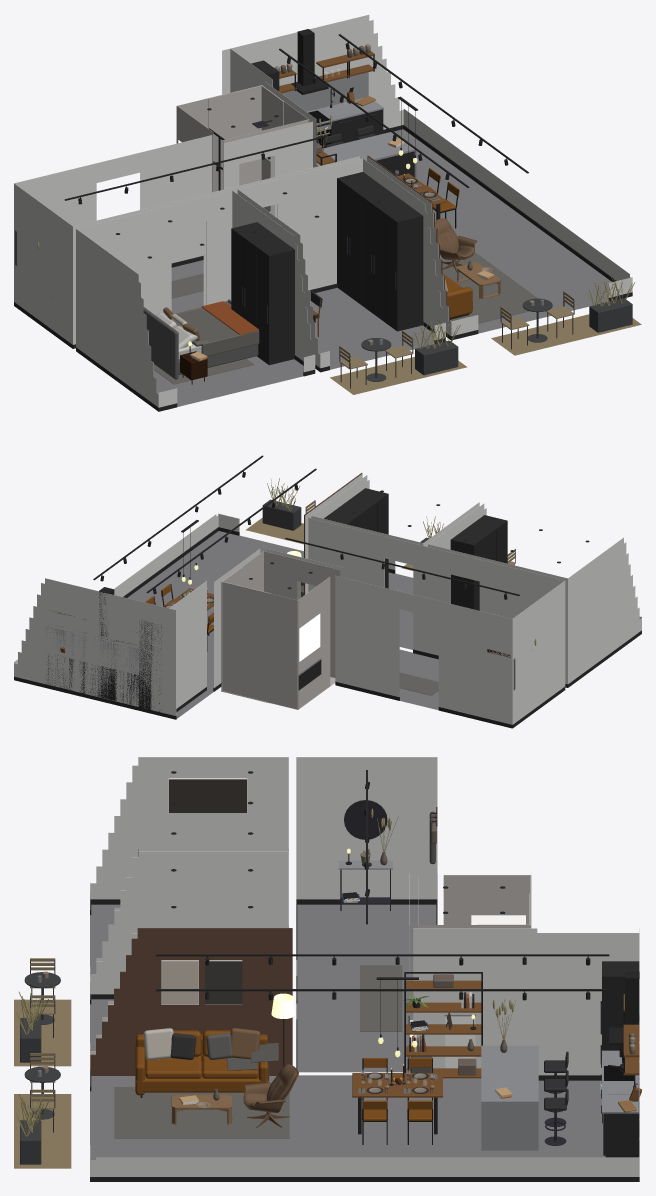
File: unit-2.C-urban.glb
3 views of the same model, one above another, from view 1: azimuth 30°, elevation 25°; view 2: azimuth 150°, elevation 25°; view 3: azimuth 270°, elevation 25° (orthographic). The views are drawn at different scales.
Visible parts, largest first — view 1: int-wall, int-floor, int-joineryTall, int-showerWall, int-outdoor, int-deck, int-rug, int-skirting, int-bathWall, int-worktop, int-headboard, int-duvet (+15 smaller); view 2: int-wall, int-bathWall, int-joineryTall, int-floor, int-skirting, int-inst-track|matteBlack, int-hallFloor, int-joinery, int-outdoor, int-ledStrip, int-matteBlack, int-deck (+3 smaller); view 3: int-wall, int-floor, int-feature, int-hallFloor, int-rug, int-worktop, int-wood, int-deck, int-sofa, int-bathWall, int-skirting, int-outdoor (+21 smaller).
Boxes of the visible parts, left/top/right/bottom form: int-wall: left=14, top=14, right=632, bottom=407; int-floor: left=154, top=129, right=611, bottom=406; int-joineryTall: left=231, top=60, right=423, bottom=365; int-showerWall: left=208, top=85, right=283, bottom=211; int-outdoor: left=339, top=294, right=632, bottom=388; int-deck: left=330, top=314, right=641, bottom=394; int-rug: left=154, top=253, right=537, bottom=384; int-skirting: left=14, top=125, right=632, bottom=411; int-bathWall: left=176, top=85, right=309, bottom=215; int-worktop: left=35, top=98, right=416, bottom=297; int-headboard: left=143, top=307, right=258, bottom=379; int-duvet: left=175, top=299, right=259, bottom=356; int-wall: left=14, top=474, right=641, bottom=724; int-bathWall: left=221, top=551, right=340, bottom=709; int-joineryTall: left=139, top=488, right=507, bottom=715; int-floor: left=127, top=531, right=413, bottom=718; int-skirting: left=14, top=527, right=641, bottom=728; int-inst-track|matteBlack: left=93, top=455, right=519, bottom=595; int-hallFloor: left=399, top=649, right=438, bottom=710; int-joinery: left=46, top=656, right=138, bottom=706; int-outdoor: left=262, top=499, right=515, bottom=565; int-ledStrip: left=299, top=613, right=320, bottom=661; int-matteBlack: left=45, top=471, right=507, bottom=698; int-deck: left=245, top=517, right=413, bottom=570; int-wall: left=90, top=757, right=639, bottom=1176; int-floor: left=90, top=904, right=605, bottom=1160; int-feature: left=90, top=928, right=292, bottom=1075; int-hallFloor: left=296, top=904, right=436, bottom=1072; int-rug: left=114, top=965, right=402, bottom=1138; int-worktop: left=338, top=860, right=639, bottom=1150; int-wood: left=352, top=980, right=641, bottom=1101; int-deck: left=14, top=999, right=71, bottom=1168; int-sofa: left=135, top=1030, right=268, bottom=1095; int-bathWall: left=417, top=874, right=531, bottom=928; int-skirting: left=90, top=899, right=639, bottom=1181; int-outdoor: left=20, top=960, right=60, bottom=1164.
Size of the model in its own units: 10.9 by 2.7 by 10.39.
